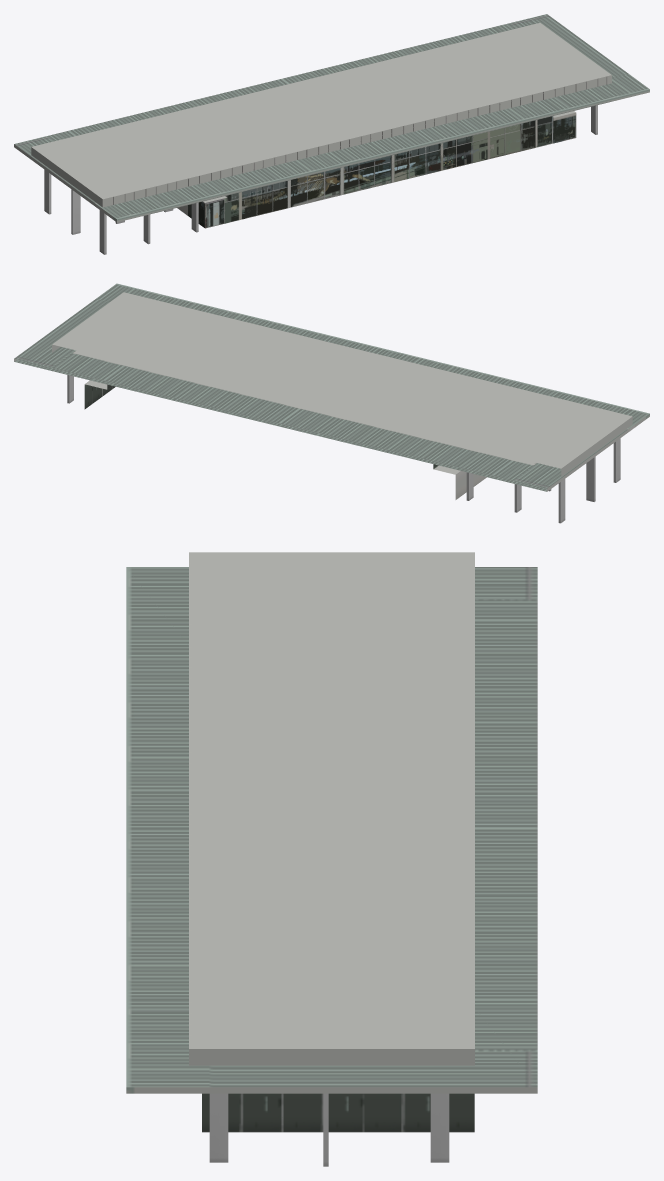
File: Beaty.obj
The picture shows the model from 3 angles, top to bottom: view 1: azimuth 30°, elevation 25°; view 2: azimuth 150°, elevation 25°; view 3: azimuth 270°, elevation 25°; orthographic projection. The views are drawn at different scales.
Visible parts, largest first — view 1: beaty_1_Mesh.002; view 2: beaty_1_Mesh.002; view 3: beaty_1_Mesh.002.
Boxes of the visible parts, x1,y1,x2,y2 form: beaty_1_Mesh.002: [14, 14, 649, 254]; beaty_1_Mesh.002: [14, 283, 649, 523]; beaty_1_Mesh.002: [126, 552, 537, 1166].
Bounding box in the file's own units: 0.0672 × 0.00736 × 0.0225.
